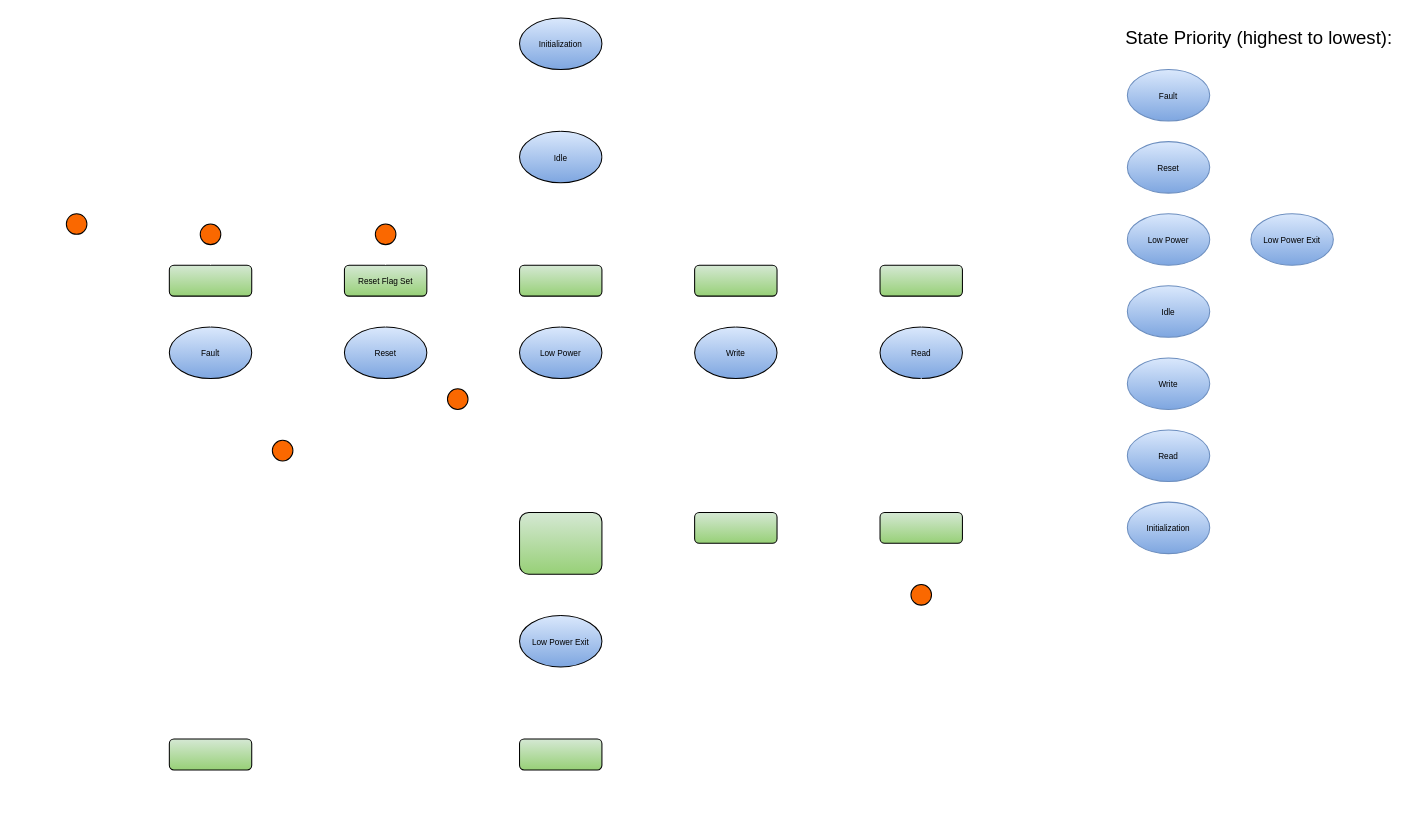
Image size: 1423x837. Some labels were removed from this diagram. Each missing label, with the box of its shape:
Fault Code != 0: (168, 264, 252, 296)
Fault Code != 0 or Reset Flag Set or Low Power Flag Cleared: (519, 511, 602, 574)
Fault Code Cleared: (168, 738, 252, 770)
Low Power Flag Set: (519, 264, 602, 296)
No other flags set: (519, 738, 602, 770)
Read Flag Cleared: (879, 511, 962, 543)
Read Flag Set: (879, 264, 962, 296)
Write Flag Cleared: (694, 511, 777, 543)
Write Flag Set: (694, 264, 777, 296)
